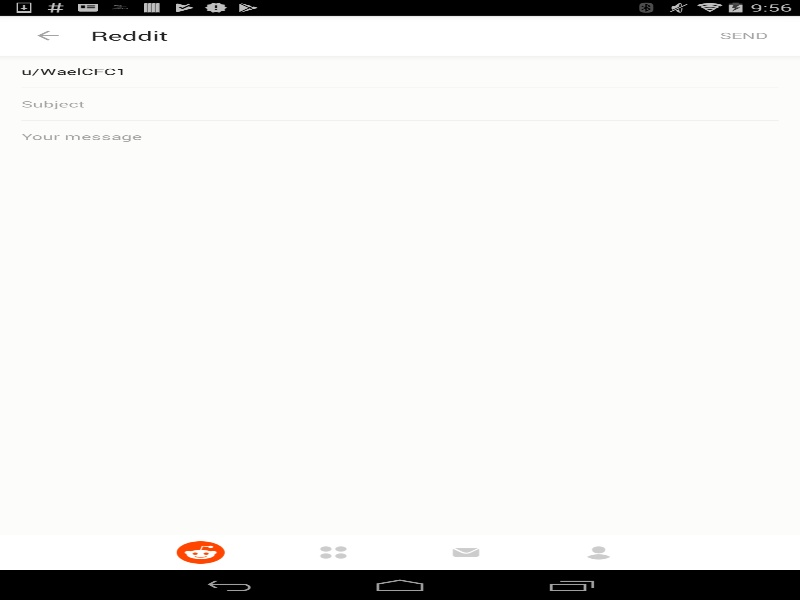Button: (10, 15, 85, 55)
Input: (0, 120, 800, 535), (0, 88, 800, 120), (40, 55, 800, 87)
